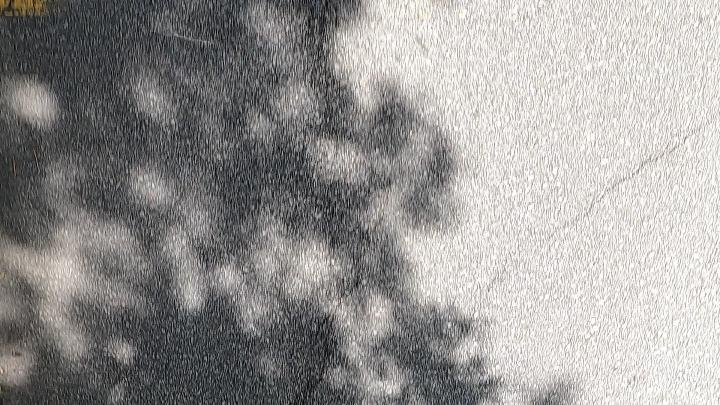Crack: (475, 112, 720, 304), (482, 114, 716, 294)
